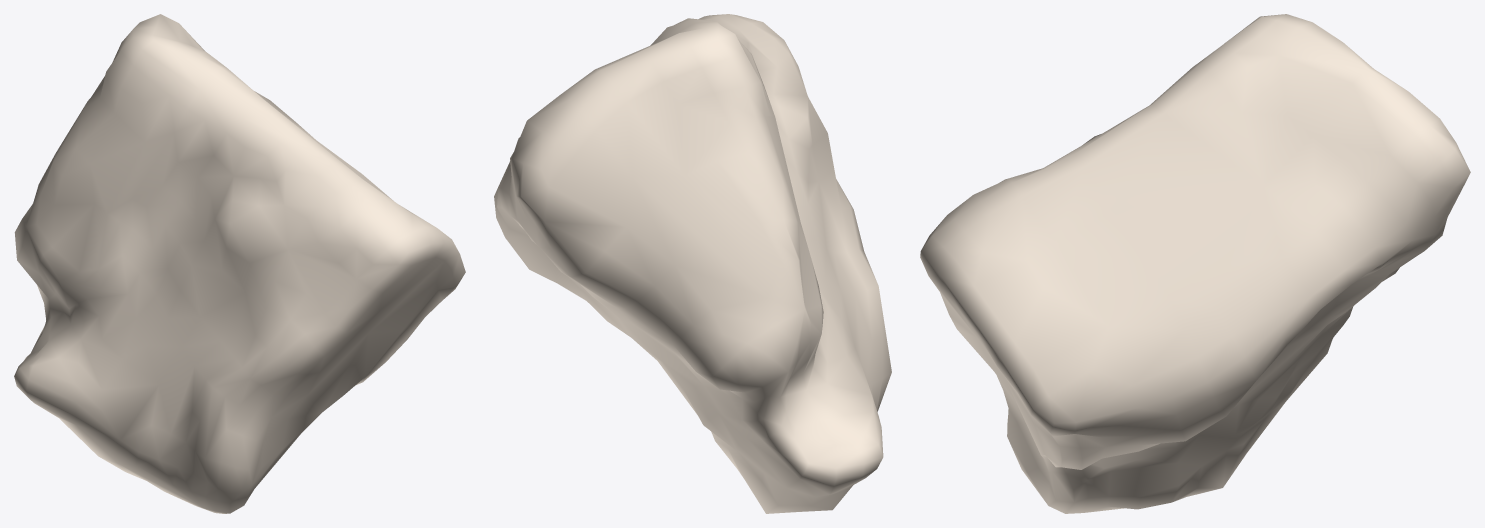
The model's file is left_lateral_cuneiform.glb.
3 renders of one model, left to right at view 1: azimuth 30°, elevation 25°; view 2: azimuth 150°, elevation 25°; view 3: azimuth 270°, elevation 25°, orthographic. The views are drawn at different scales.
Parts seen in each view (by area): view 1: Lateral cuneiform bone.r; view 2: Lateral cuneiform bone.r; view 3: Lateral cuneiform bone.r.
Boxes of the visible parts, x1,y1,x2,y2 form: Lateral cuneiform bone.r: (14,14,465,513); Lateral cuneiform bone.r: (494,14,891,513); Lateral cuneiform bone.r: (920,14,1470,513).
Size of the model in its own units: 0.024 by 0.0268 by 0.0268.
